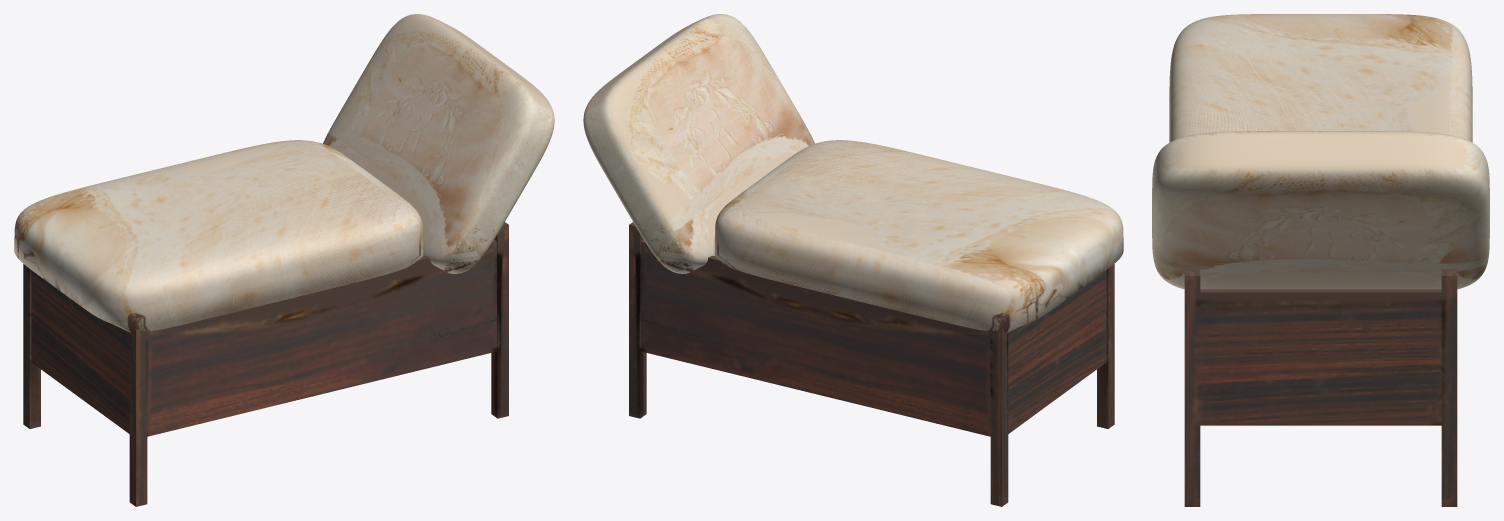
The model's file is Bett_44012.glb.
The picture shows the model from 3 angles, left to right: view 1: azimuth 30°, elevation 25°; view 2: azimuth 150°, elevation 25°; view 3: azimuth 270°, elevation 25°; orthographic projection. The views are drawn at different scales.
Parts seen in each view (by area): view 1: Bettdecke, Bettgestell, Kissen; view 2: Bettdecke, Bettgestell, Kissen; view 3: Kissen, Bettgestell, Bettdecke.
Boxes of the visible parts, <box> form: Bettdecke: <box>14,140,423,332</box>; Bettgestell: <box>23,222,508,506</box>; Kissen: <box>323,14,554,273</box>; Bettdecke: <box>714,140,1123,333</box>; Bettgestell: <box>629,222,1114,506</box>; Kissen: <box>583,14,814,273</box>; Kissen: <box>1152,131,1489,289</box>; Bettgestell: <box>1184,269,1457,506</box>; Bettdecke: <box>1169,14,1472,142</box>.
Size of the model in its own units: 0.3567 by 0.2464 by 0.1947.
3 materials, 3 textured.
